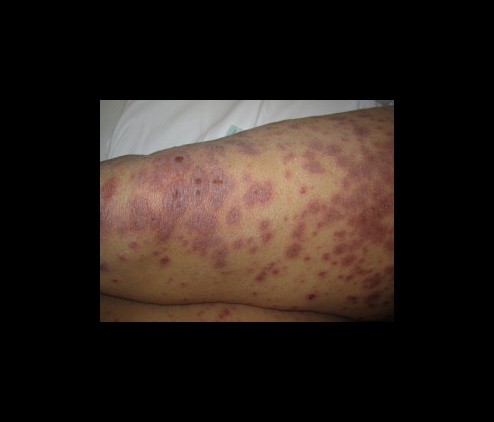SJS-TEN: (100, 102, 395, 324)
